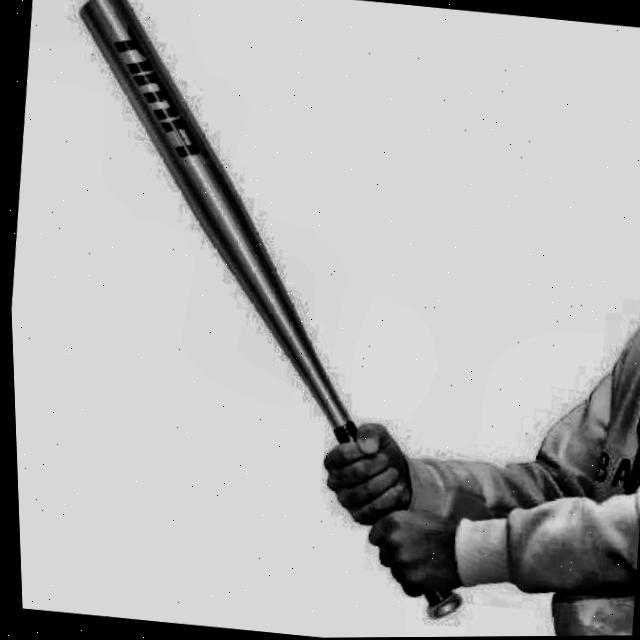tongkat pemukul: (75, 0, 486, 619)
